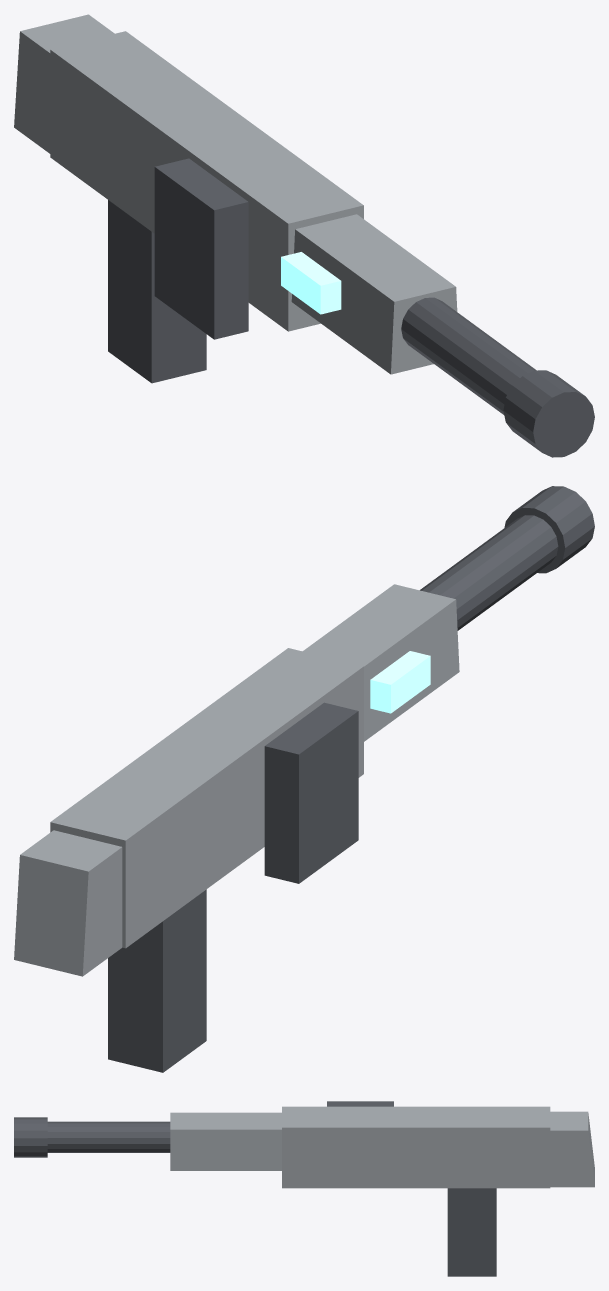
File: weapon_right_rifle.fbx
3 views of the same model, one above another, from view 1: azimuth 30°, elevation 25°; view 2: azimuth 150°, elevation 25°; view 3: azimuth 270°, elevation 25° (orthographic). The views are drawn at different scales.
Visible parts, largest first — view 1: weapon_right_rifle; view 2: weapon_right_rifle; view 3: weapon_right_rifle.
Boxes of the visible parts, x1=… form: weapon_right_rifle: x1=14, y1=14, x2=594, y2=457; weapon_right_rifle: x1=14, y1=486, x2=594, y2=1072; weapon_right_rifle: x1=14, y1=1101, x2=594, y2=1276.
Size of the model in its own units: 0.32 by 0.75 by 2.6.
